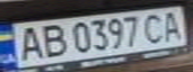0: (66, 19, 93, 54)
3: (87, 17, 109, 52)
7: (121, 14, 145, 47)
9: (106, 16, 127, 50)
A: (9, 24, 48, 62), (157, 8, 187, 42)
B: (36, 21, 69, 59)
C: (139, 11, 169, 44)
